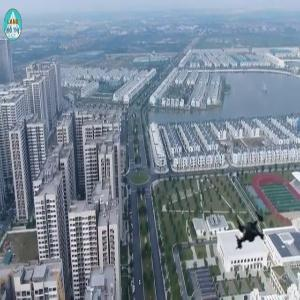drone: (222, 206, 286, 270)
